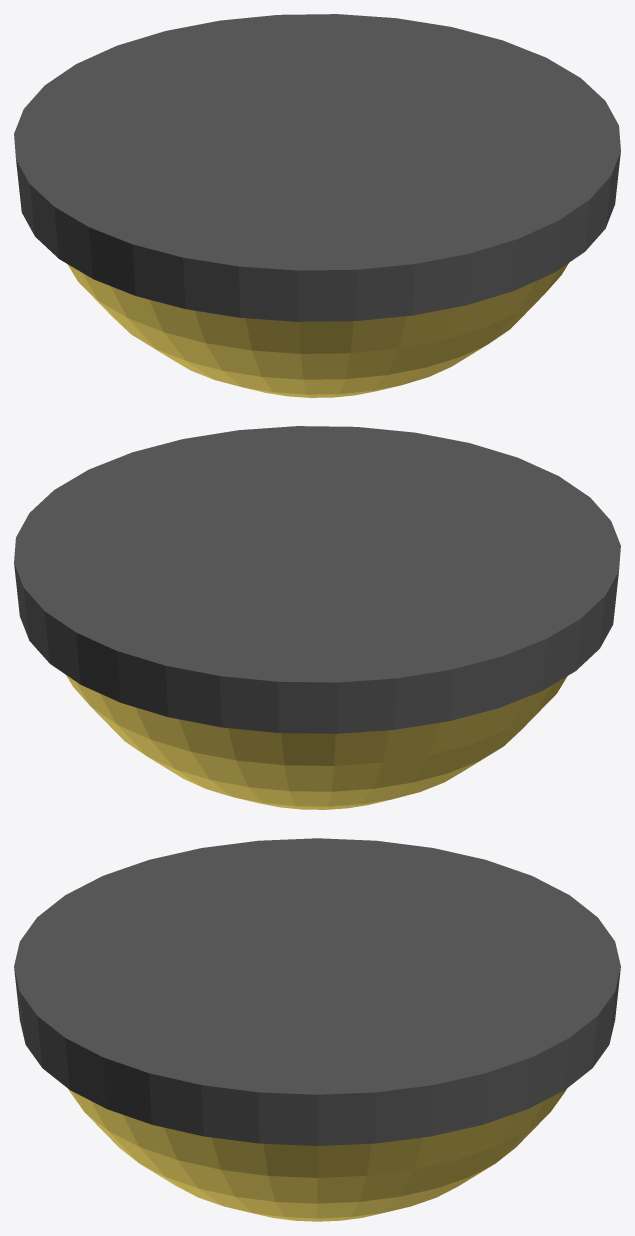
The model's file is LUZ.fbx.
The picture shows the model from 3 angles, top to bottom: view 1: azimuth 30°, elevation 25°; view 2: azimuth 150°, elevation 25°; view 3: azimuth 270°, elevation 25°; orthographic projection.
Visible parts, largest first — view 1: Sphere.001; view 2: Sphere.001; view 3: Sphere.001.
Boxes of the visible parts, x1=… form: Sphere.001: x1=14, y1=14, x2=620, y2=397; Sphere.001: x1=14, y1=426, x2=620, y2=809; Sphere.001: x1=14, y1=838, x2=620, y2=1221.
Bounding box in the file's own units: 2 × 0.8253 × 2.
